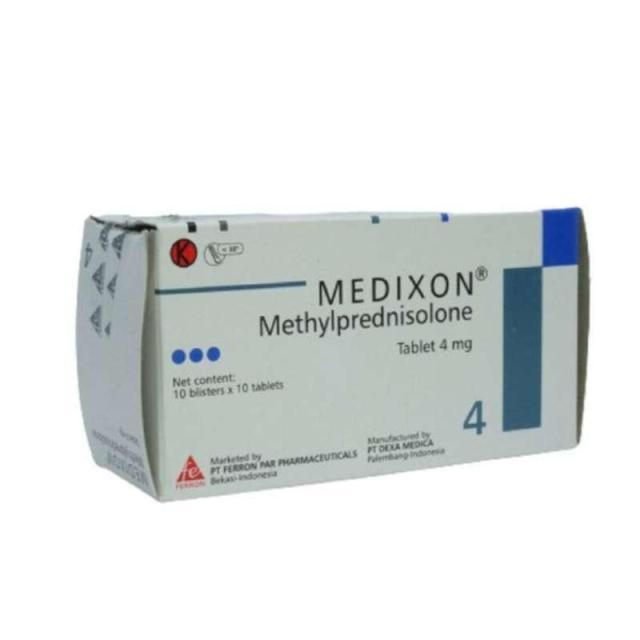drug-name: (317, 270, 478, 310)
